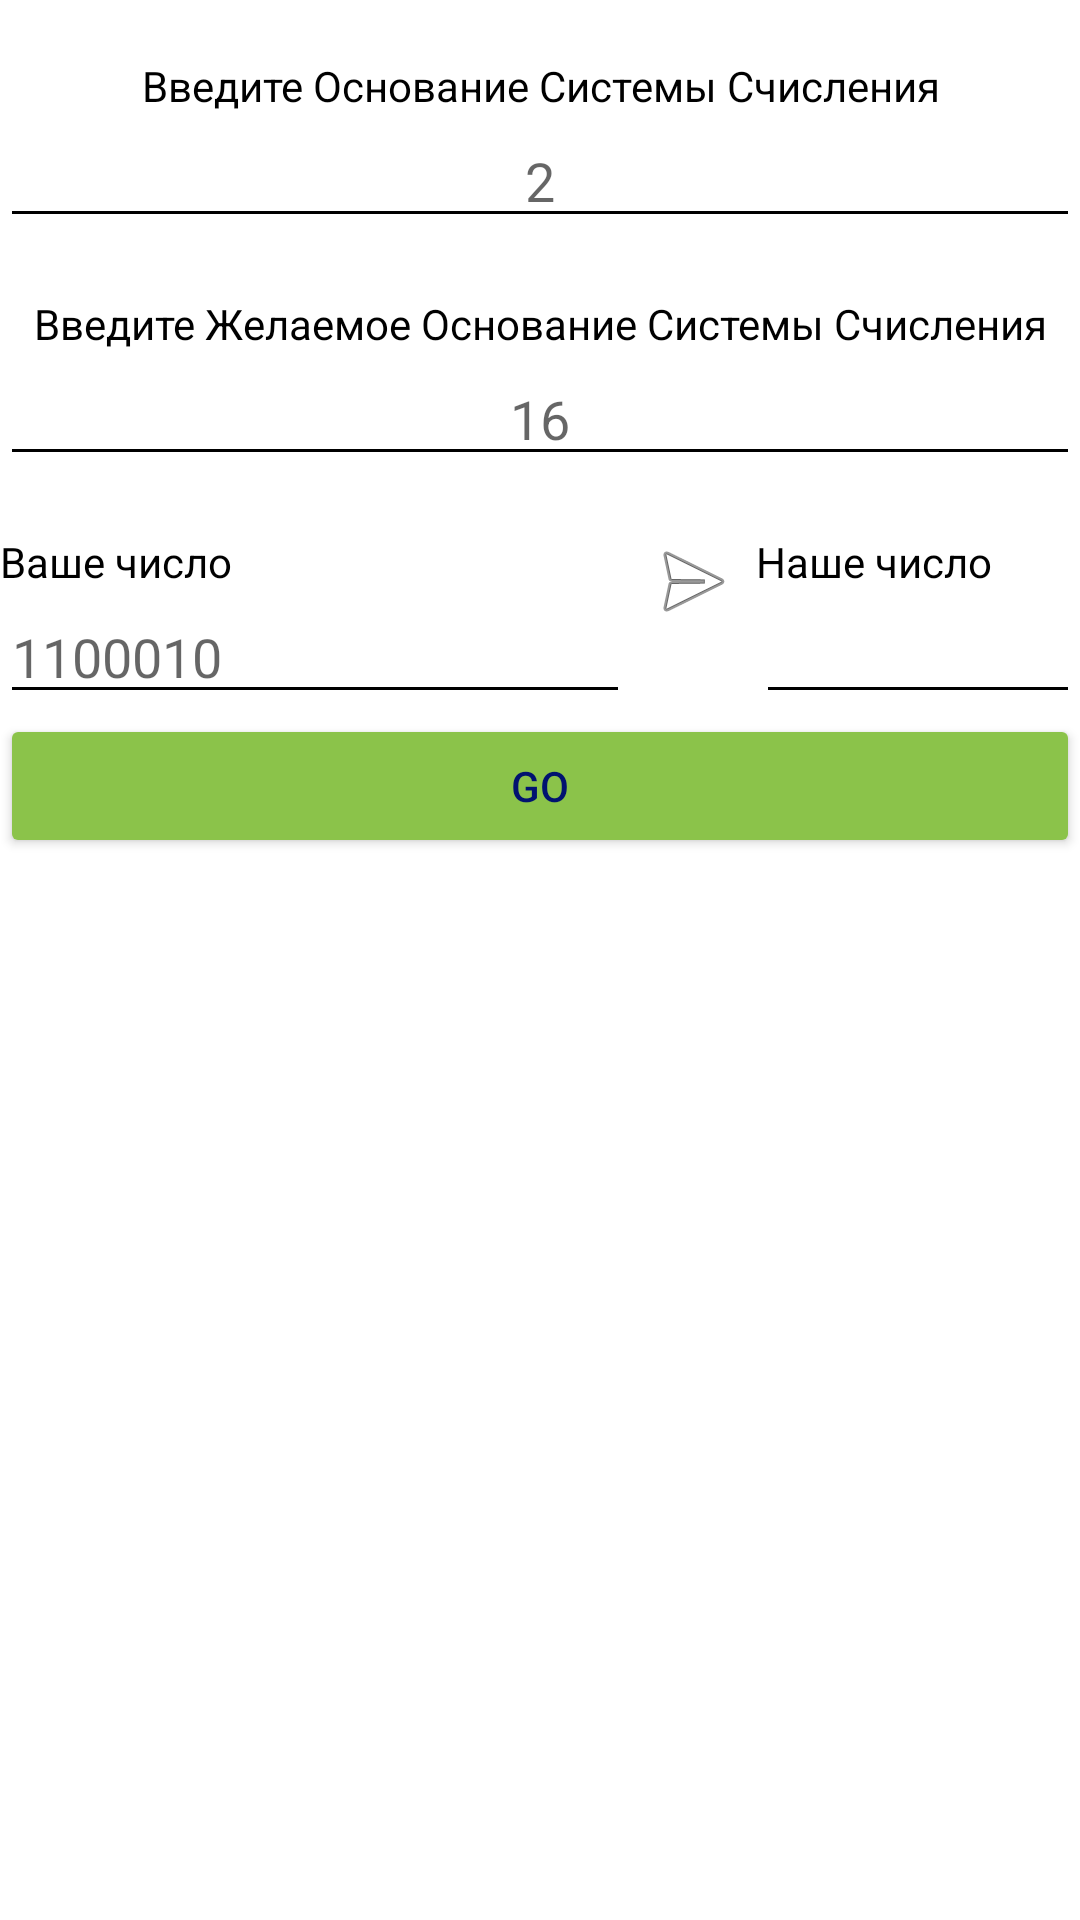

Where to tap for icons on this 1080 × 1920 app screen, as [x,y]:
send: [694,581]
